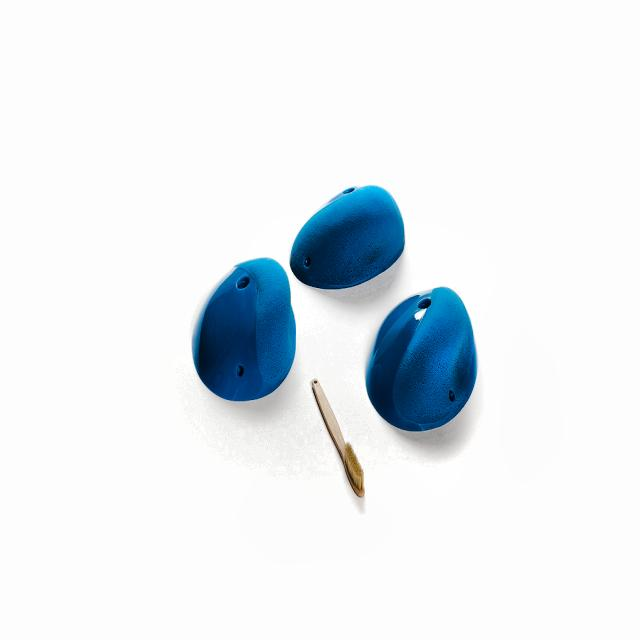Hold: (361, 285, 488, 432), (193, 251, 300, 405), (288, 175, 411, 296)
